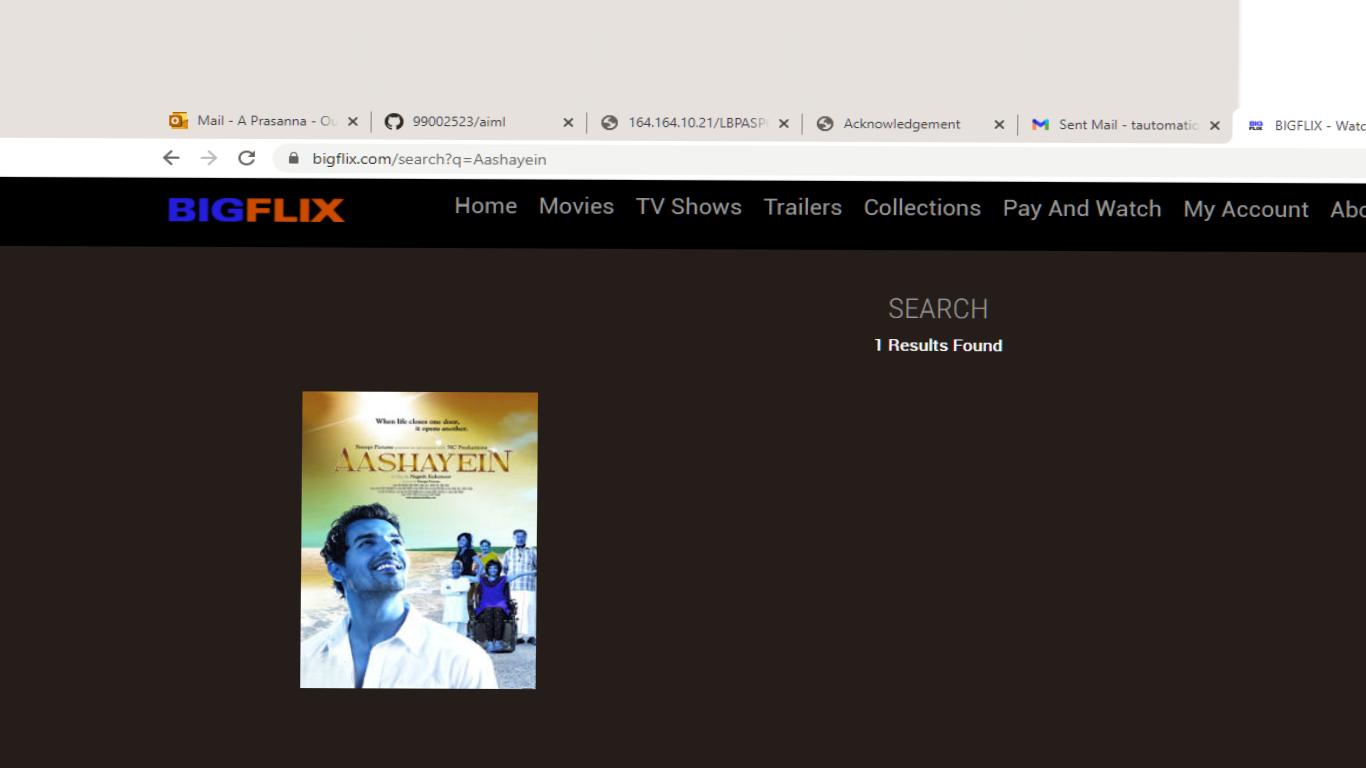myaccountbutton: (1179, 177, 1323, 229)
resultsfound: (833, 296, 1067, 372)
